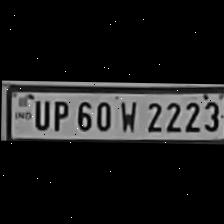0: (90, 97, 114, 130)
2: (140, 98, 164, 132), (180, 98, 200, 132), (162, 98, 180, 132)
3: (200, 98, 220, 132)
6: (70, 97, 92, 130)
P: (48, 97, 70, 131)
U: (28, 96, 50, 129)
W: (114, 97, 138, 133)
